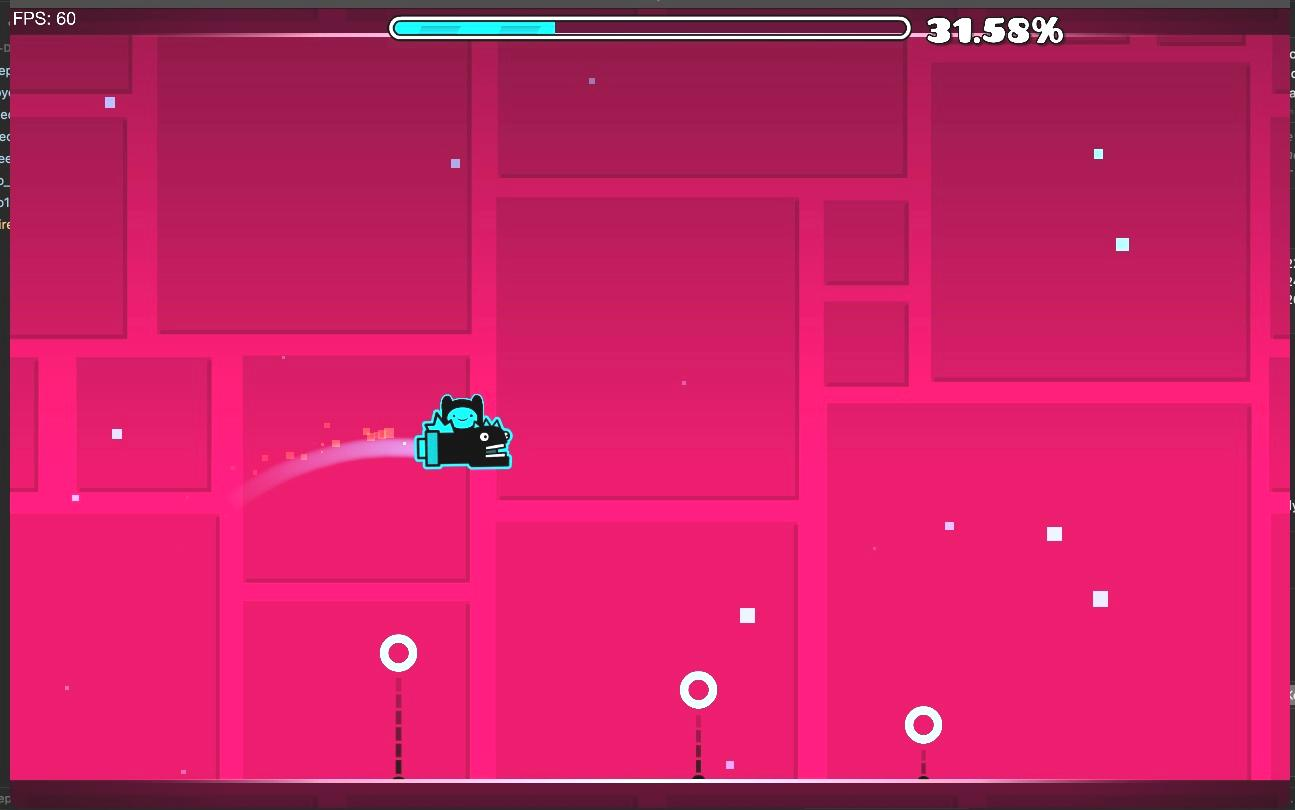spaceship: (415, 395, 511, 468)
